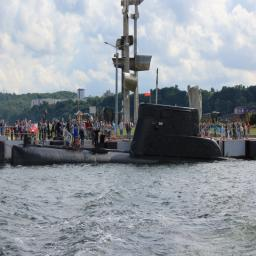submarine: (11, 104, 236, 166)
